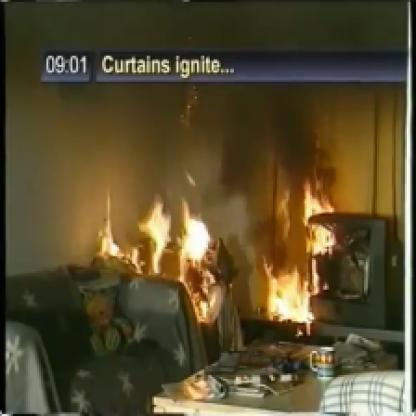fire: (80, 151, 248, 319), (244, 144, 353, 338)
